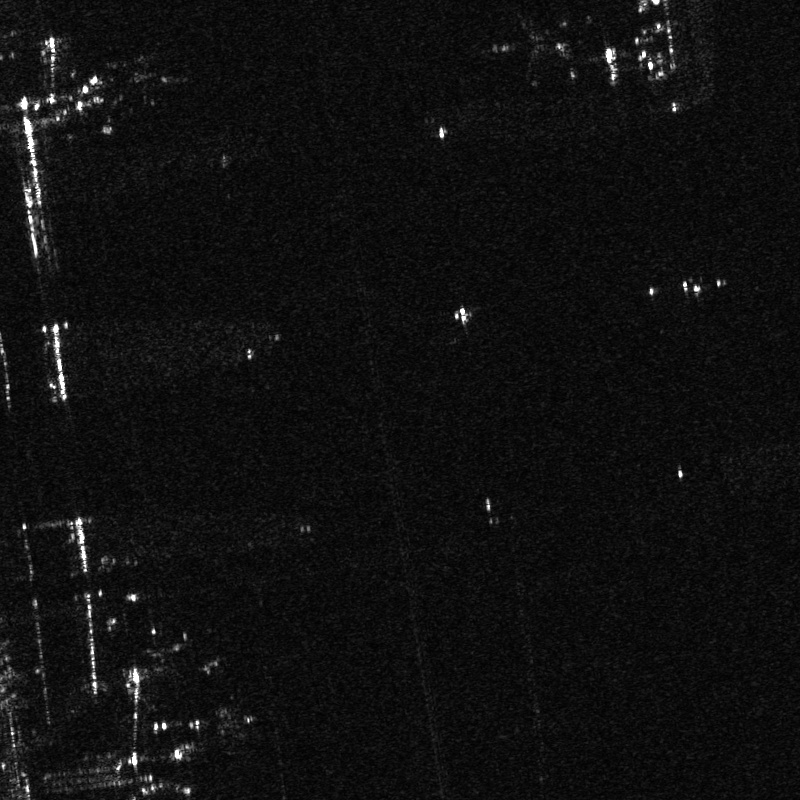Boeing787: (484, 9, 570, 90)
